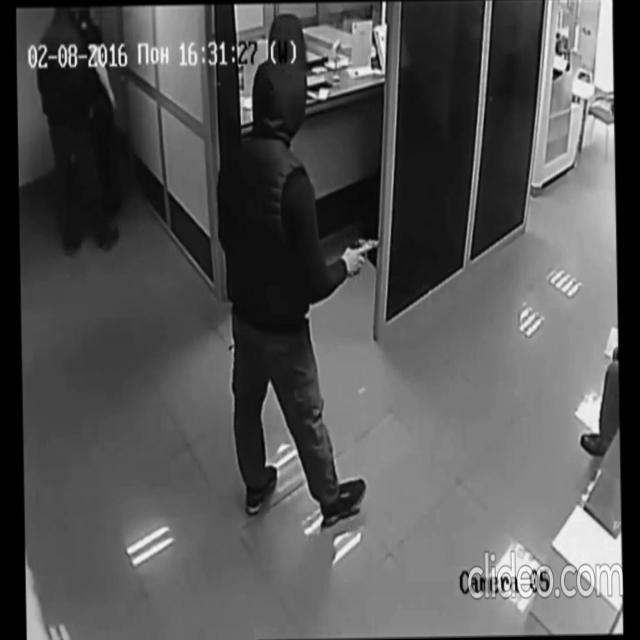gun: (350, 232, 381, 254)
person with a gun: (214, 51, 385, 532)
